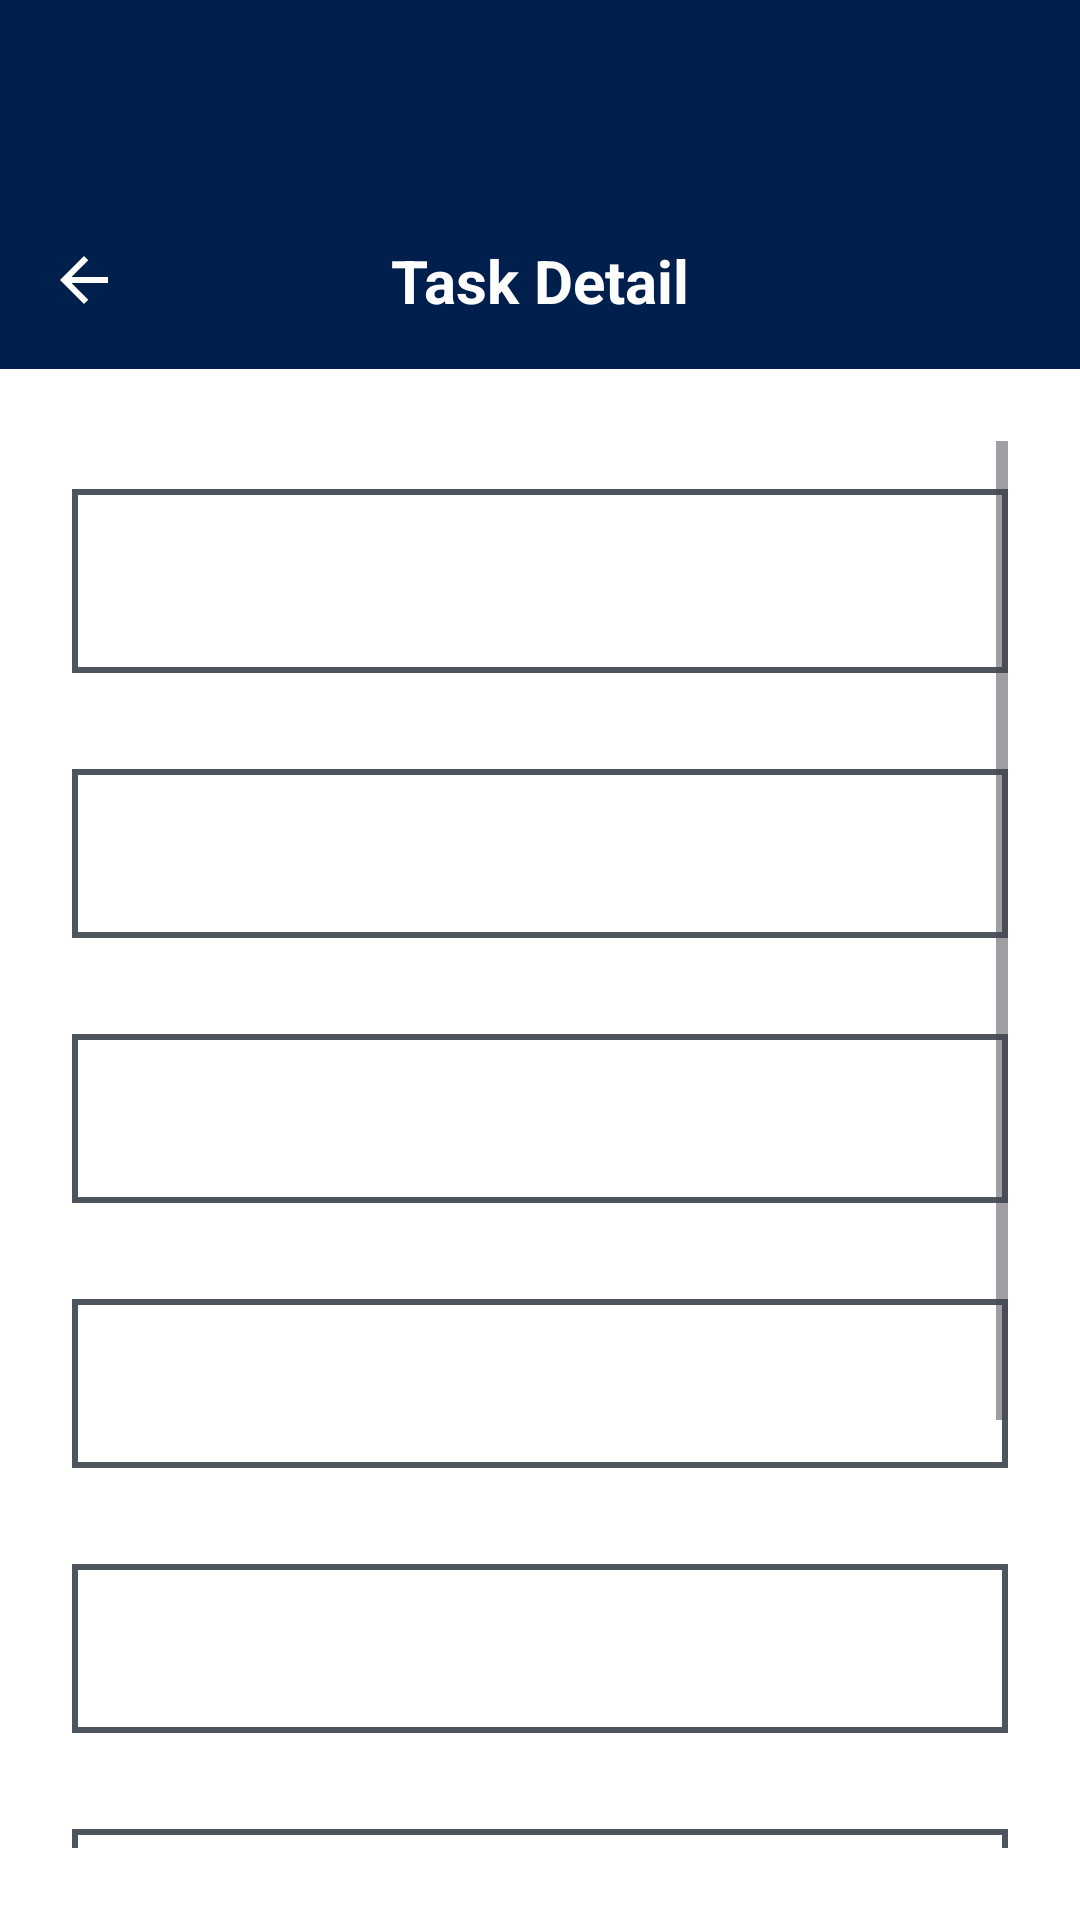

Where icons sit on this 1080 × 1920 app screen, as [x1, y1, x2, y2]:
arrow back: [60, 256, 108, 304]
